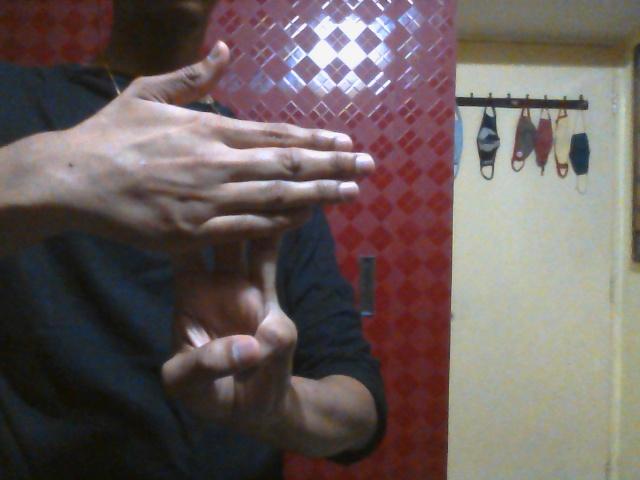M: (73, 39, 377, 431)
